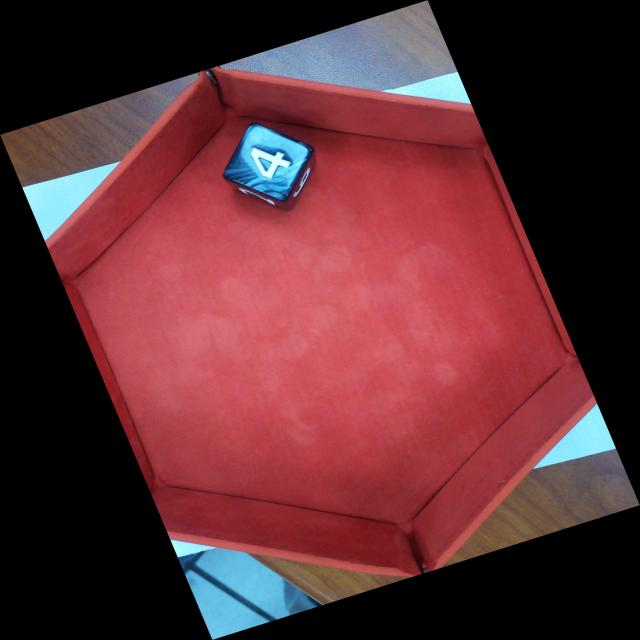dice: (220, 122, 314, 204)
